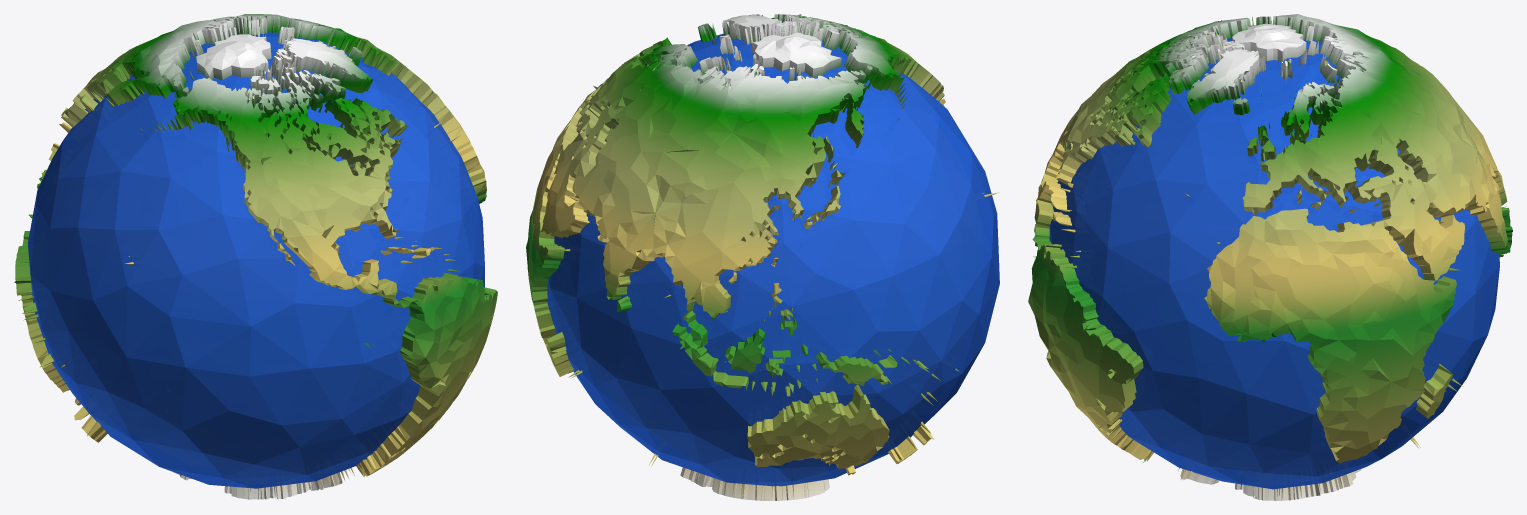
The model's file is earth.gltf.
The picture shows the model from 3 angles, left to right: view 1: azimuth 30°, elevation 25°; view 2: azimuth 150°, elevation 25°; view 3: azimuth 270°, elevation 25°; orthographic projection.
Visible parts, largest first — view 1: Ocean, Earth; view 2: Ocean, Earth; view 3: Earth, Ocean.
Part boxes in pixels (x1,y1,x2,y2): Ocean: (28,32,484,488); Earth: (14,14,497,499); Ocean: (547,33,999,486); Earth: (526,14,998,500); Earth: (1028,14,1512,500); Ocean: (1049,37,1499,489).
Size of the model in its own units: 12.4 by 12.81 by 12.75.
Materials: 2 (1 with a texture image).
